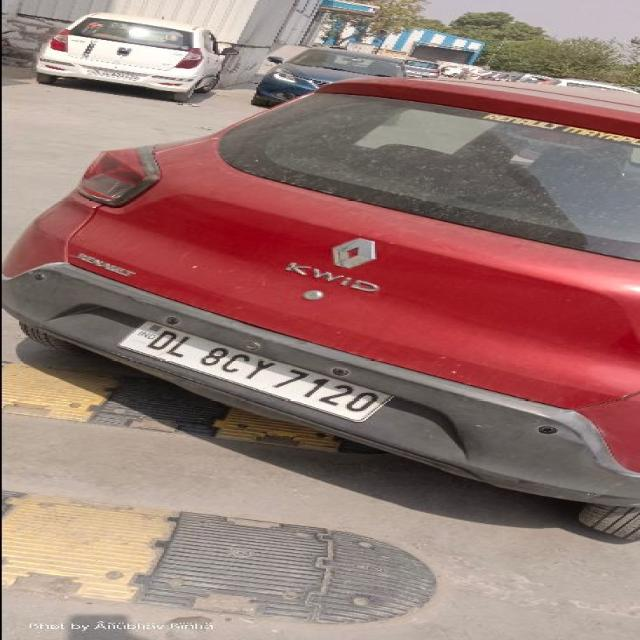license_plate: (115, 319, 394, 424)
